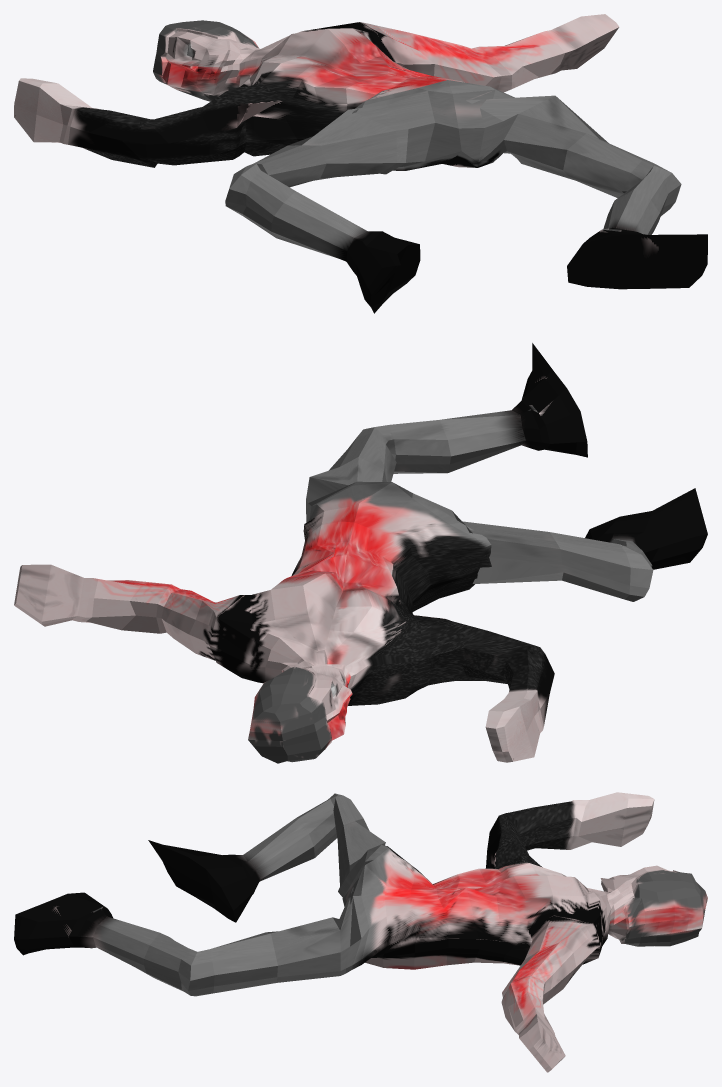
Rendered from Male_Deader_Poses_01.fbx.
3 views of the same model, one above another, from view 1: azimuth 30°, elevation 25°; view 2: azimuth 150°, elevation 25°; view 3: azimuth 270°, elevation 25° (orthographic). The views are drawn at different scales.
Visible parts, largest first — view 1: MD.002; view 2: MD.002; view 3: MD.002.
Part boxes in pixels (left/top/right/bottom): MD.002: left=14, top=14, right=707, bottom=313; MD.002: left=14, top=343, right=707, bottom=763; MD.002: left=14, top=792, right=707, bottom=1072.
Bounding box in the file's own units: 149 × 32.43 × 188.
Materials: 1 (1 with a texture image).
